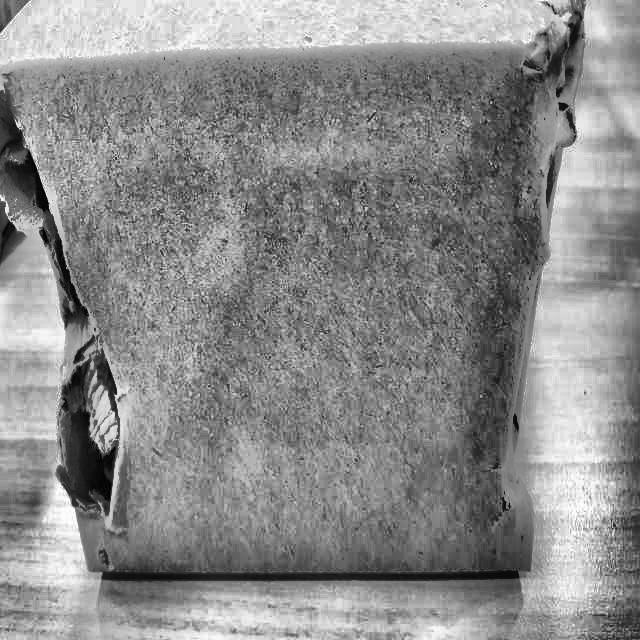box: (0, 0, 594, 577)
hole: (1, 88, 131, 550)
